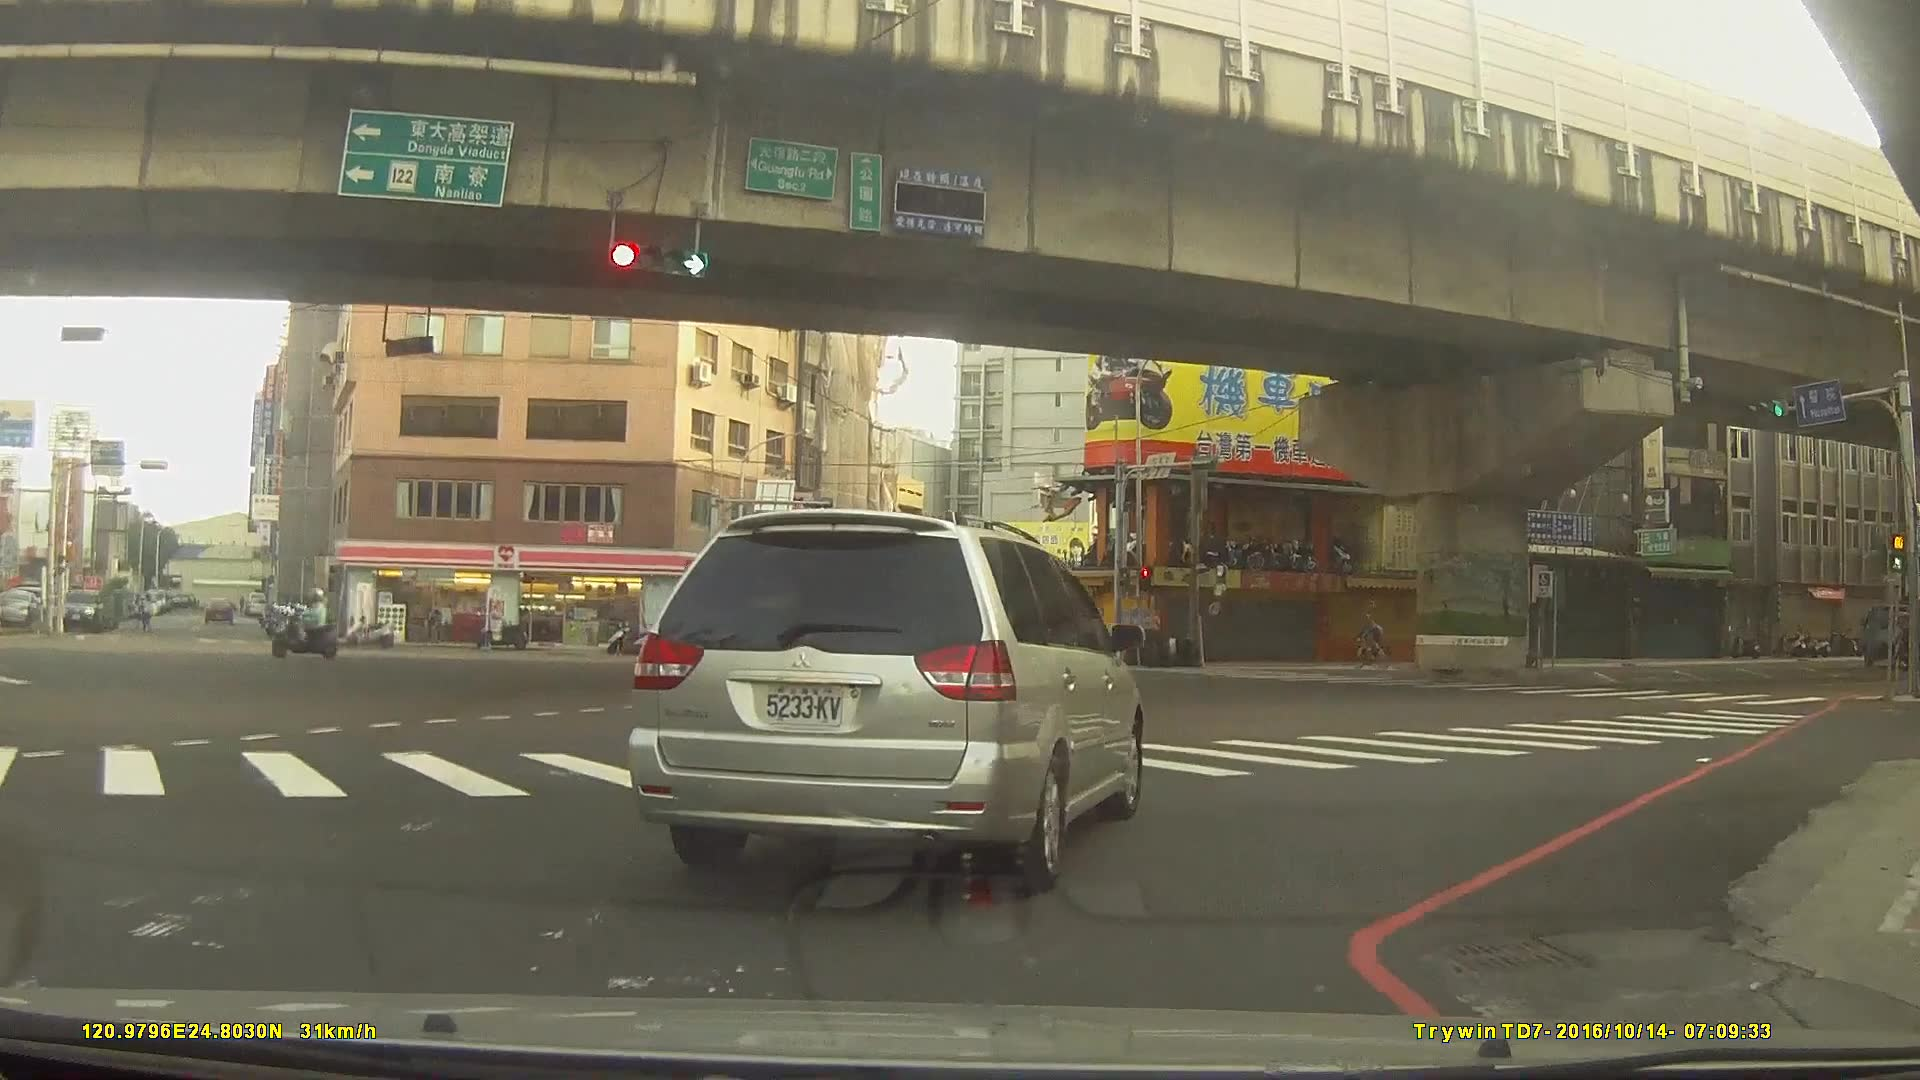rider: (272, 590, 349, 660), (1344, 613, 1394, 673)
vehicle: (626, 507, 1147, 884), (1858, 602, 1920, 666), (865, 629, 935, 669), (58, 586, 102, 631), (543, 606, 605, 633), (200, 595, 234, 623)
